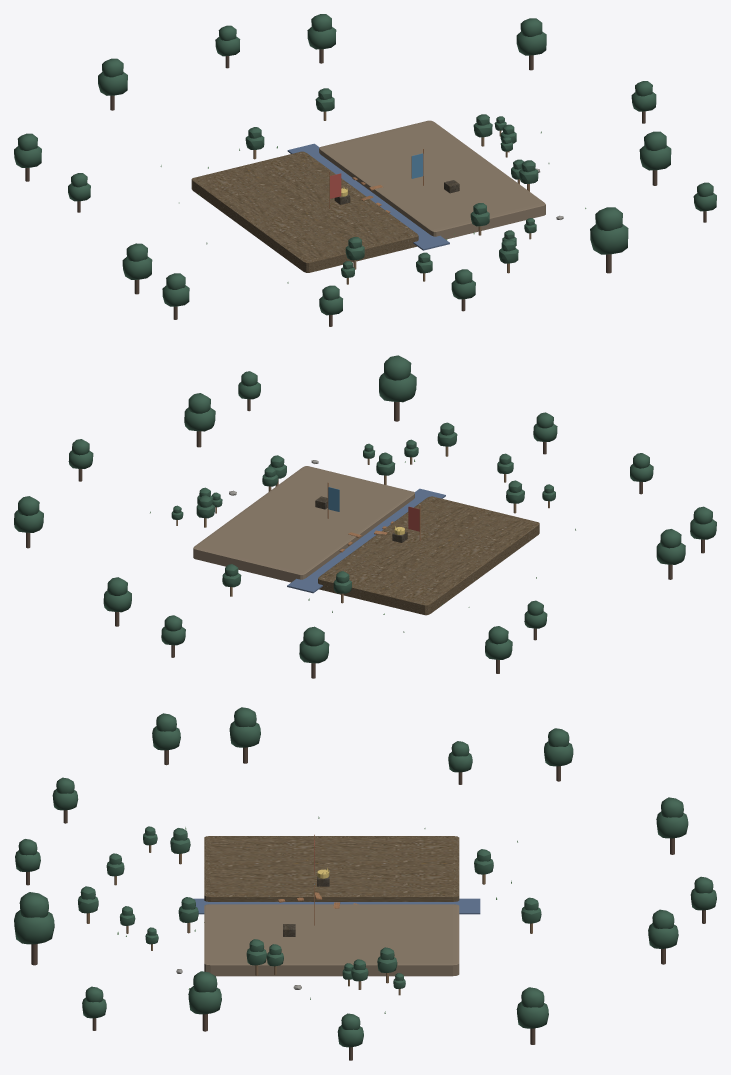
The model's file is adi-11-division.glb.
The picture shows the model from 3 angles, top to bottom: view 1: azimuth 30°, elevation 25°; view 2: azimuth 150°, elevation 25°; view 3: azimuth 270°, elevation 25°; orthographic projection. The views are drawn at different scales.
Parts seen in each view (by area): view 1: GEO-west, GEO-east, GEO-rift-water, GEO-tree-canopy.052, GEO-tree-canopy.056, GEO-tree-canopy.032, GEO-tree-canopy.038, GEO-tree-canopy.053, GEO-tree-canopy.044, GEO-tree-canopy.034, GEO-tree-canopy.040; view 2: GEO-west, GEO-east, GEO-rift-water, GEO-tree-canopy.052, GEO-tree-canopy.056, GEO-tree-canopy.053, GEO-tree-canopy.038, GEO-tree-canopy.032, GEO-tree-canopy.044; view 3: GEO-east, GEO-west, GEO-rift-water, GEO-tree-canopy.052, GEO-tree-canopy.056, GEO-tree-canopy.032, GEO-tree-canopy.038, GEO-tree-canopy.053, GEO-tree-canopy.044, GEO-tree-canopy.034, GEO-tree-canopy.040.
Boxes of the visible parts, x1,y1,x2,y2 form: GEO-west: [191, 151, 418, 272]; GEO-east: [319, 120, 545, 239]; GEO-rift-water: [287, 143, 449, 250]; GEO-tree-canopy.052: [590, 224, 628, 254]; GEO-tree-canopy.056: [639, 145, 671, 170]; GEO-tree-canopy.032: [516, 31, 546, 55]; GEO-tree-canopy.038: [98, 72, 127, 95]; GEO-tree-canopy.053: [595, 207, 622, 230]; GEO-tree-canopy.044: [122, 256, 152, 279]; GEO-tree-canopy.034: [307, 27, 336, 49]; GEO-tree-canopy.040: [14, 146, 41, 167]; GEO-west: [318, 496, 539, 615]; GEO-east: [193, 466, 414, 582]; GEO-rift-water: [287, 488, 445, 593]; GEO-tree-canopy.052: [379, 373, 416, 402]; GEO-tree-canopy.056: [184, 407, 215, 431]; GEO-tree-canopy.053: [384, 355, 411, 380]; GEO-tree-canopy.038: [299, 641, 329, 663]; GEO-tree-canopy.032: [14, 510, 43, 532]; GEO-tree-canopy.044: [656, 542, 685, 564]; GEO-east: [204, 904, 459, 976]; GEO-west: [204, 836, 459, 901]; GEO-rift-water: [193, 898, 480, 914]; GEO-tree-canopy.052: [14, 910, 54, 944]; GEO-tree-canopy.056: [188, 986, 221, 1014]; GEO-tree-canopy.032: [516, 1001, 548, 1028]; GEO-tree-canopy.038: [656, 811, 688, 838]; GEO-tree-canopy.053: [19, 892, 48, 917]; GEO-tree-canopy.044: [229, 721, 260, 747]; GEO-tree-canopy.034: [648, 923, 678, 948]; GEO-tree-canopy.040: [544, 741, 573, 766].
Bounding box in the file's own units: 172 × 19.04 × 165.
13 materials, 3 textured.
